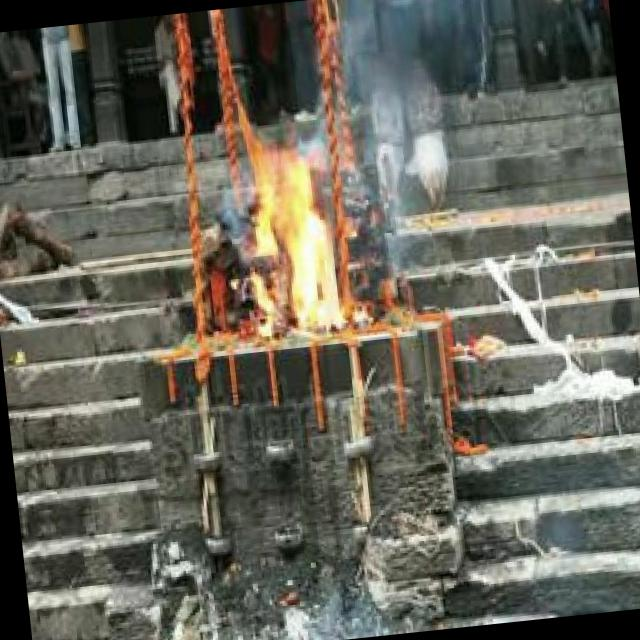Fire: (235, 143, 347, 345)
